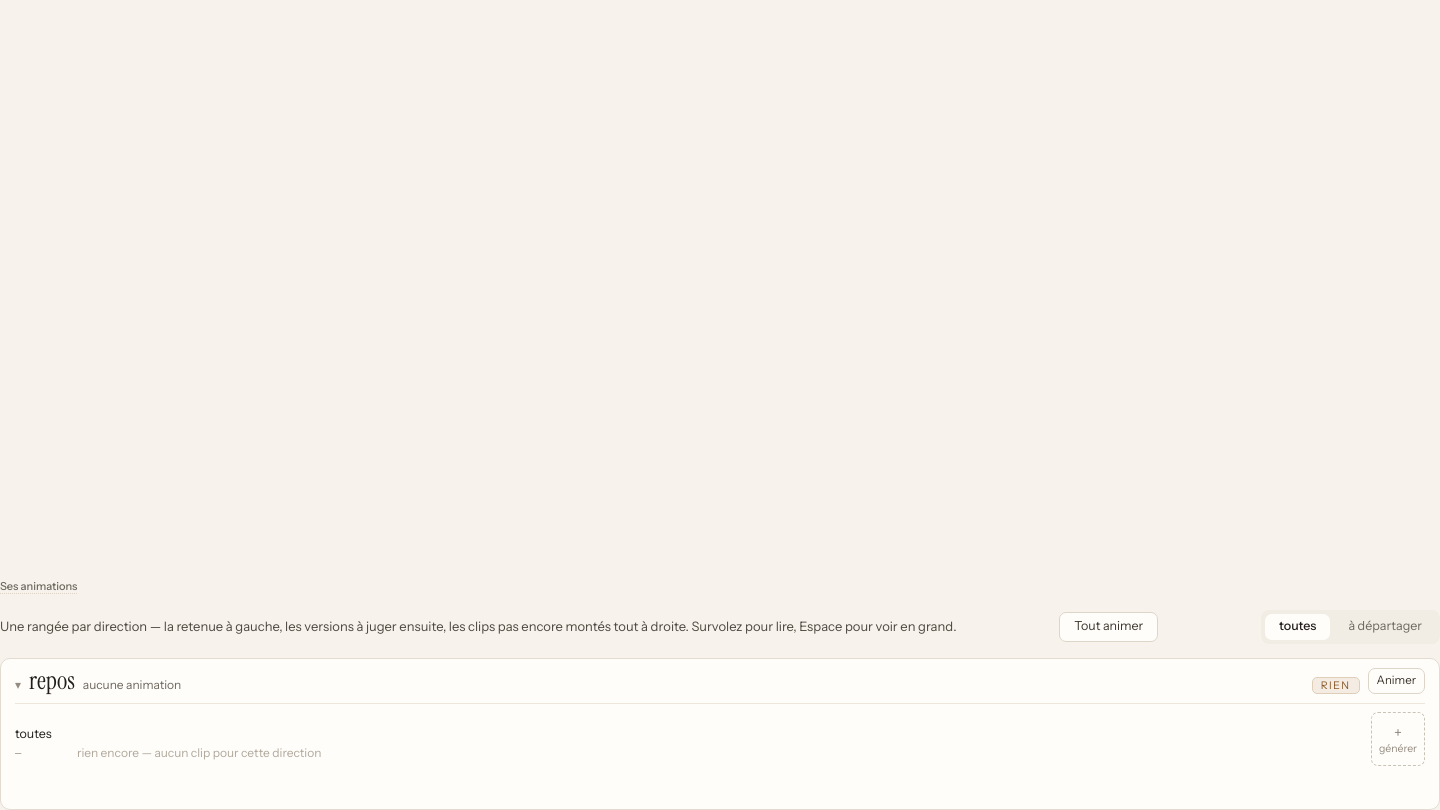
Test: les deux filtres › un filtre qui ne garde rien le dit, plutôt que de rendre un écran vide
(page scrolled)
Step 1. Click the tab "à départager" → (1385, 626), box x1=1334 y1=614 x2=1436 y2=640
(page scrolled)
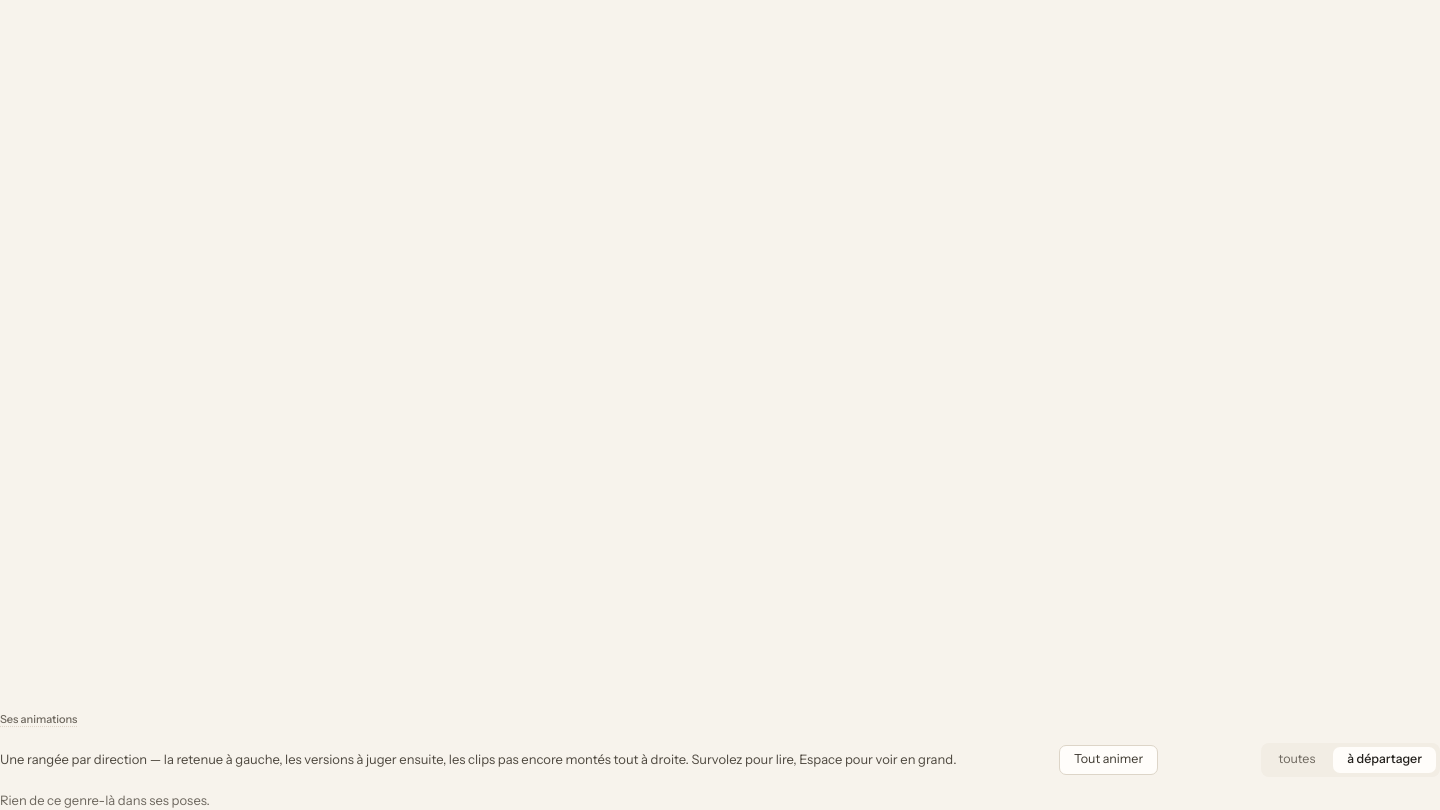
Check: the text "Rien de ce genre-là dans ses poses." is shown, box x1=0 y1=792 x2=210 y2=808
